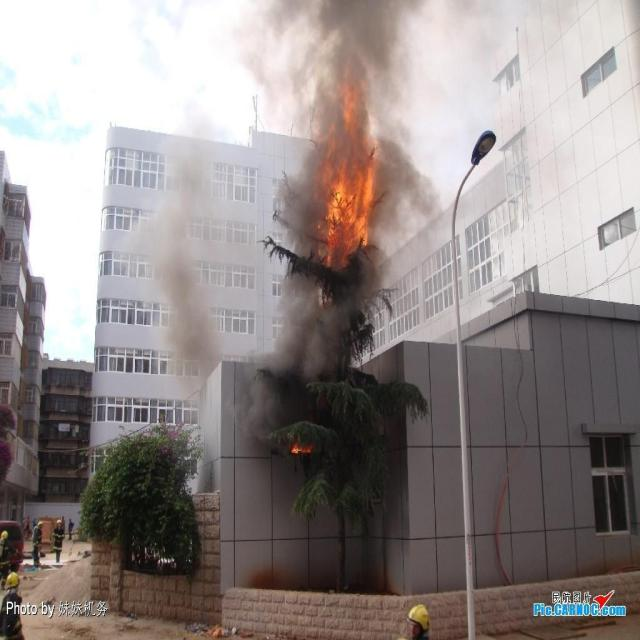fire: (306, 80, 384, 274), (282, 440, 311, 458)
smoke: (270, 277, 357, 403), (288, 4, 399, 88), (148, 248, 216, 374), (382, 145, 422, 229)
